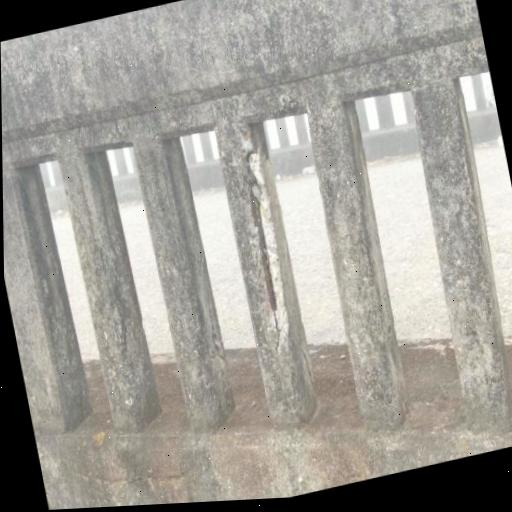exposed_rebar: (250, 192, 273, 307)
